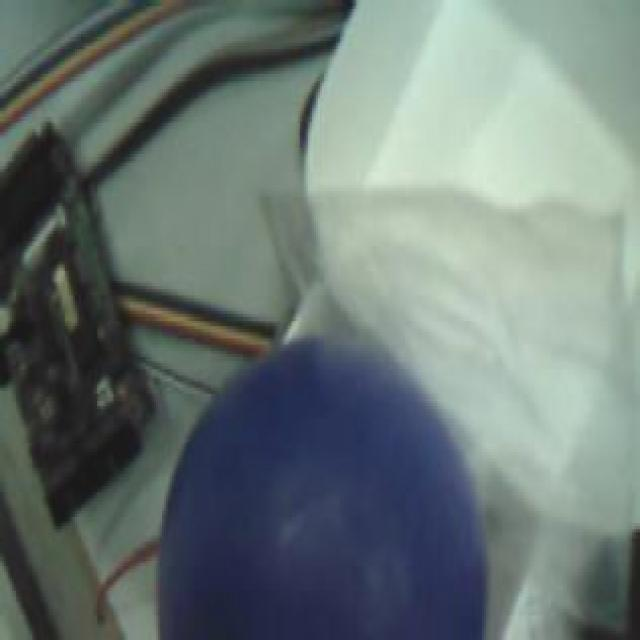BallPurple: (154, 342, 492, 640)
